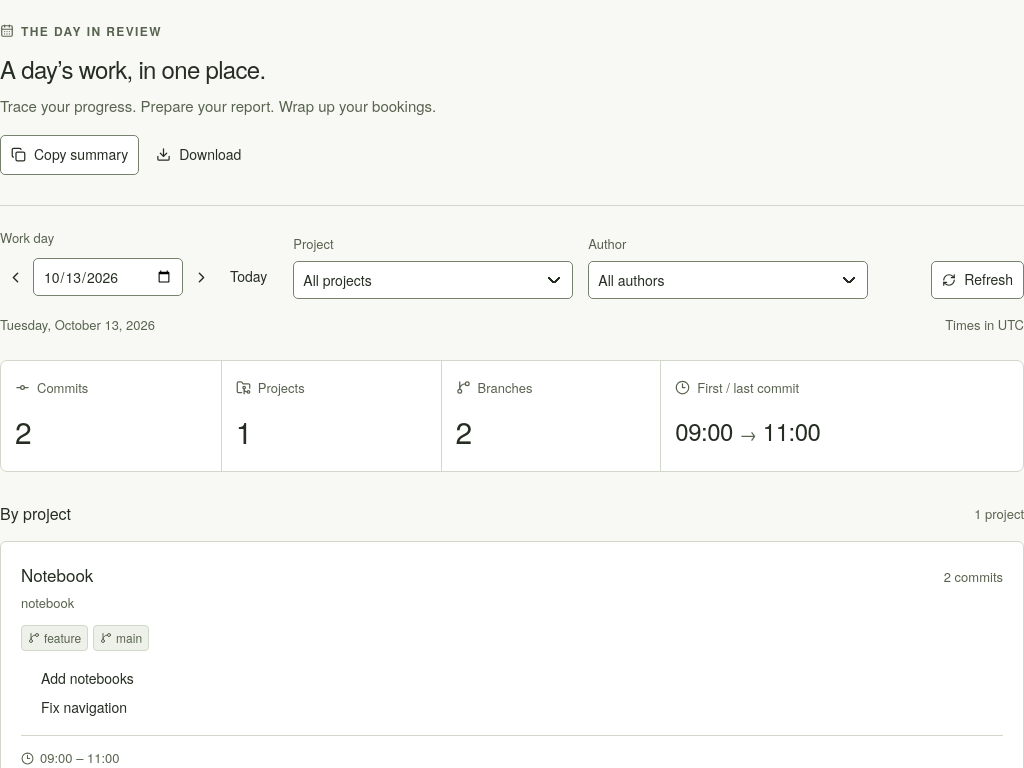
Test case: daily summary › keeps the latest copy feedback when an older request finishes later
The image size is (1024, 768).
Click the button "Copy summary": (70, 155) [0,135,139,175]
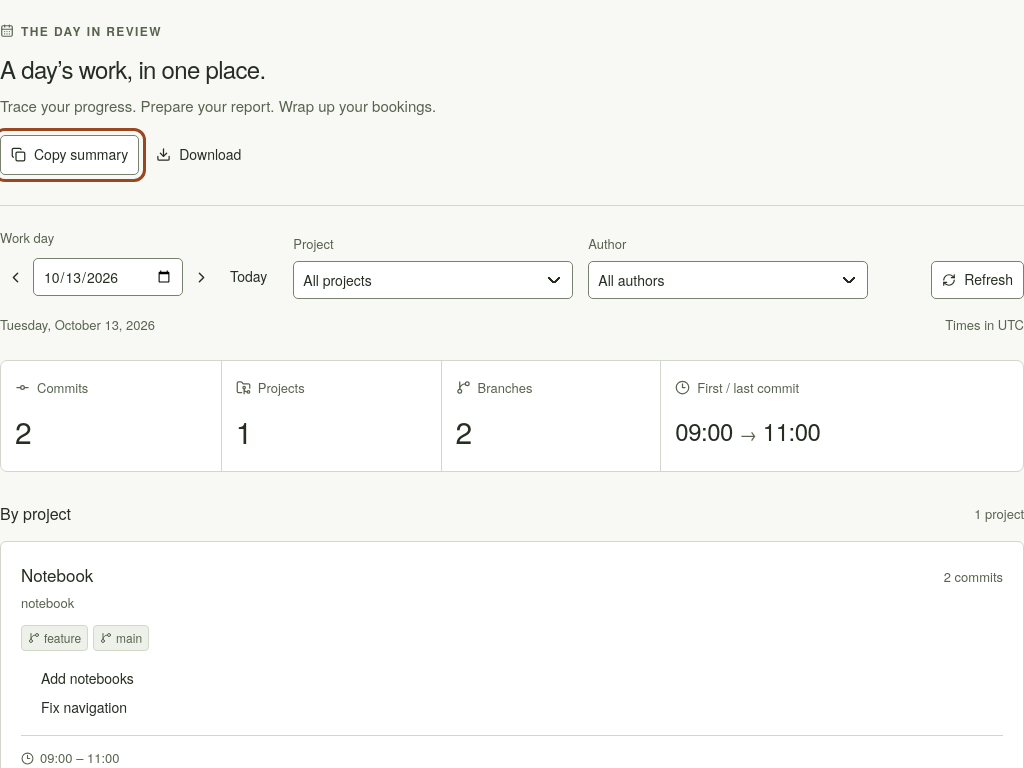
Click the button "Copy summary": (70, 155) [0,135,139,175]
(page scrolled)
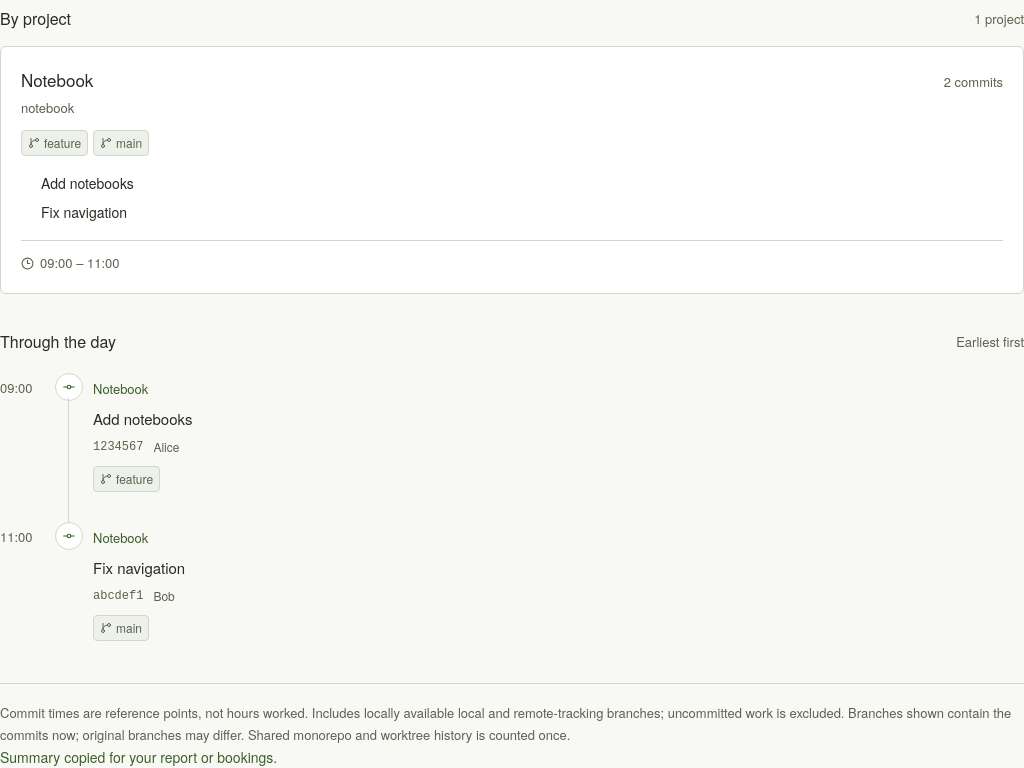
expect the text "Summary copied for your report or bookings." is shown: met, box [0,747,277,767]
